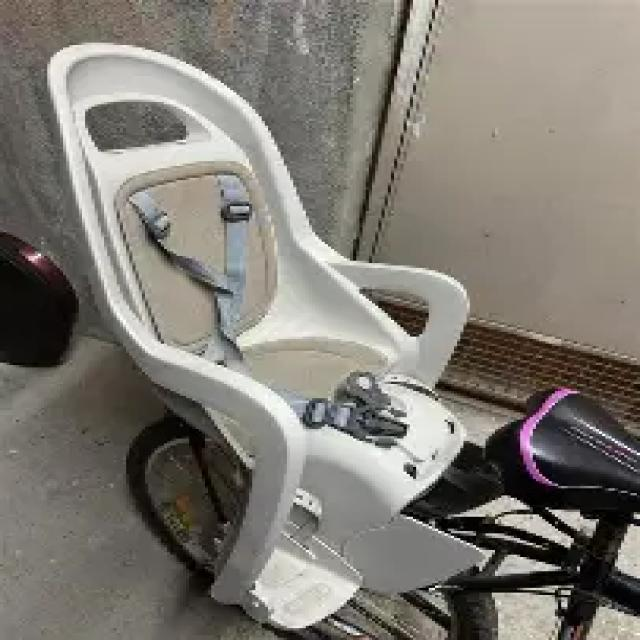childseat: (44, 37, 492, 631)
